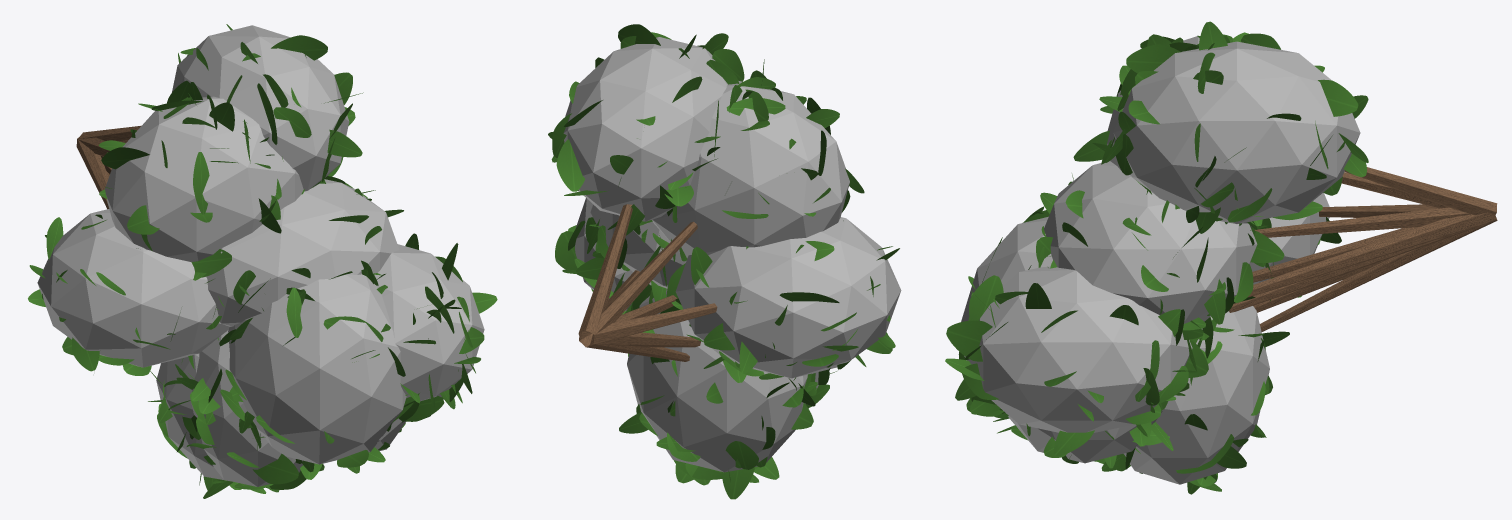
File: Bush_02.obj
3 renders of one model, left to right at view 1: azimuth 30°, elevation 25°; view 2: azimuth 150°, elevation 25°; view 3: azimuth 270°, elevation 25°, orthographic. The views are drawn at different scales.
Parts seen in each view (by area): view 1: canopy, leaves, trunk; view 2: canopy, leaves, trunk; view 3: canopy, leaves, trunk.
Boxes of the visible parts, left/top/right/bottom form: canopy: left=37, top=25, right=484, bottom=486; leaves: left=28, top=24, right=497, bottom=498; trunk: left=76, top=125, right=141, bottom=209; canopy: left=563, top=37, right=901, bottom=472; leaves: left=548, top=24, right=899, bottom=499; trunk: left=578, top=204, right=717, bottom=361; canopy: left=961, top=36, right=1360, bottom=484; leaves: left=945, top=21, right=1368, bottom=494; trunk: left=1229, top=167, right=1497, bottom=331.
Bounding box in the file's own units: 1.25 × 1.41 × 1.48.
3 materials, 2 textured.
